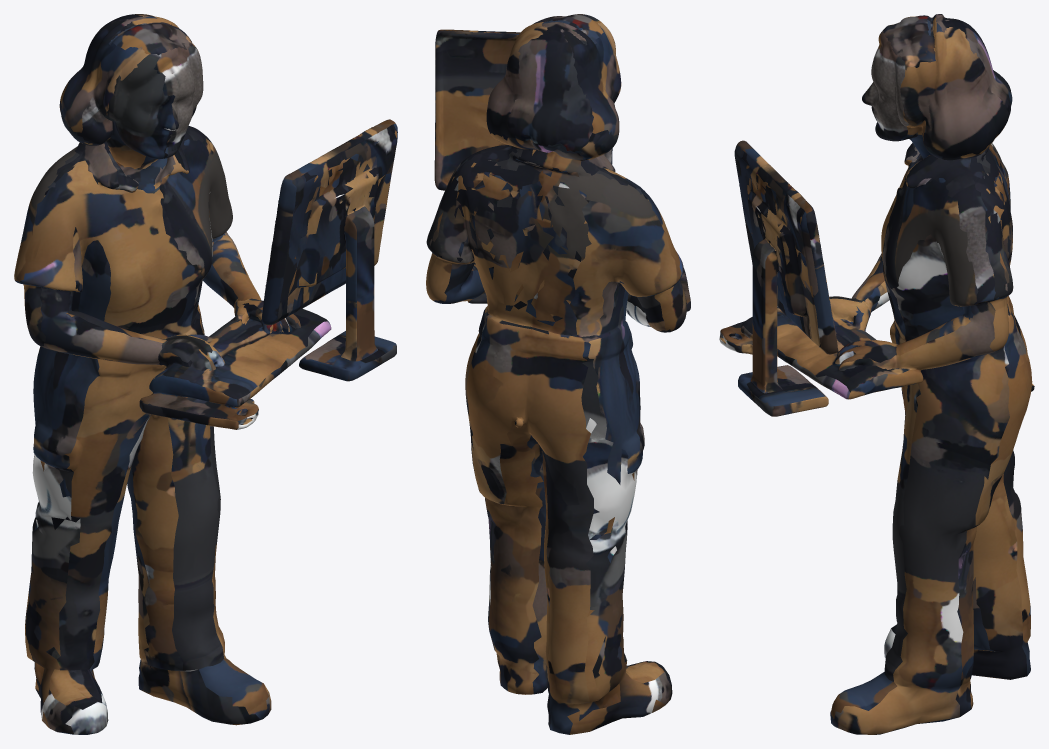
3 renders of one model, left to right at view 1: azimuth 30°, elevation 25°; view 2: azimuth 150°, elevation 25°; view 3: azimuth 270°, elevation 25°, orthographic. The views are drawn at different scales.
Visible parts, largest first — view 1: Character; view 2: Character; view 3: Character.
Boxes of the visible parts, x1,y1,x2,y2 form: Character: (14, 14, 397, 734); Character: (426, 14, 690, 734); Character: (719, 14, 1034, 734).
Size of the model in its own units: 0.8165 by 1.7 by 0.7198.
